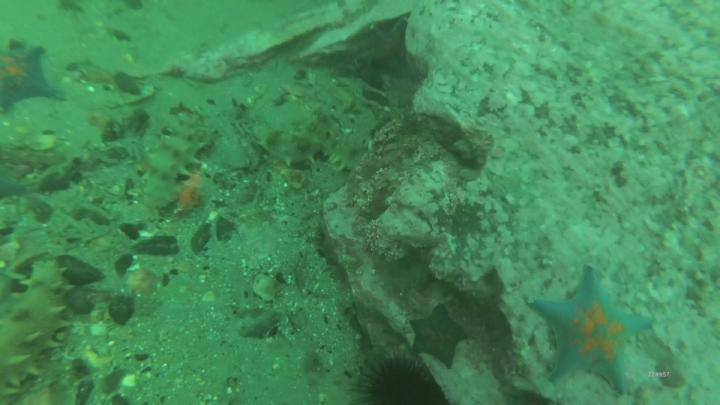echinus: (354, 354, 449, 405)
holothurian: (1, 257, 74, 404), (242, 88, 335, 171), (137, 108, 207, 214), (328, 105, 375, 175)
starfish: (529, 264, 658, 400), (1, 42, 72, 114), (406, 303, 472, 372), (355, 17, 410, 67)
